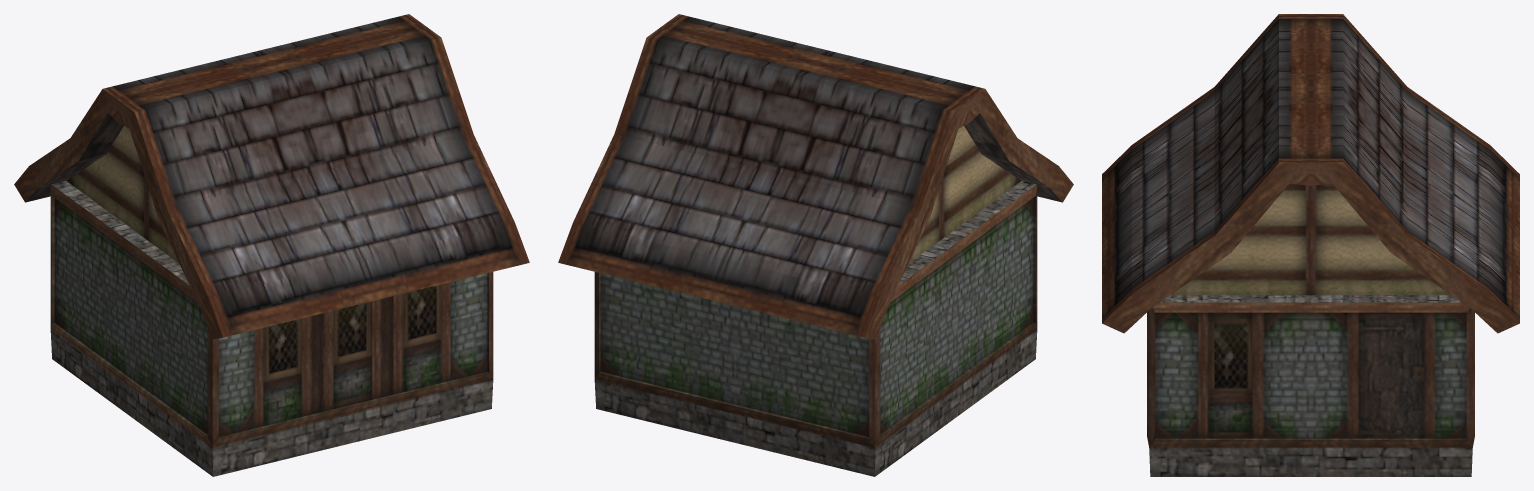
The model's file is House.gltf.
3 renders of one model, left to right at view 1: azimuth 30°, elevation 25°; view 2: azimuth 150°, elevation 25°; view 3: azimuth 270°, elevation 25°, orthographic.
Parts seen in each view (by area): view 1: MVK_House_01; view 2: MVK_House_01; view 3: MVK_House_01.
Boxes of the visible parts, x1,y1,x2,y2 form: MVK_House_01: (14, 14, 529, 476); MVK_House_01: (558, 14, 1073, 476); MVK_House_01: (1102, 14, 1519, 476).
Size of the model in its own units: 2.2 by 2.2 by 2.6.
1 material, 1 textured.
